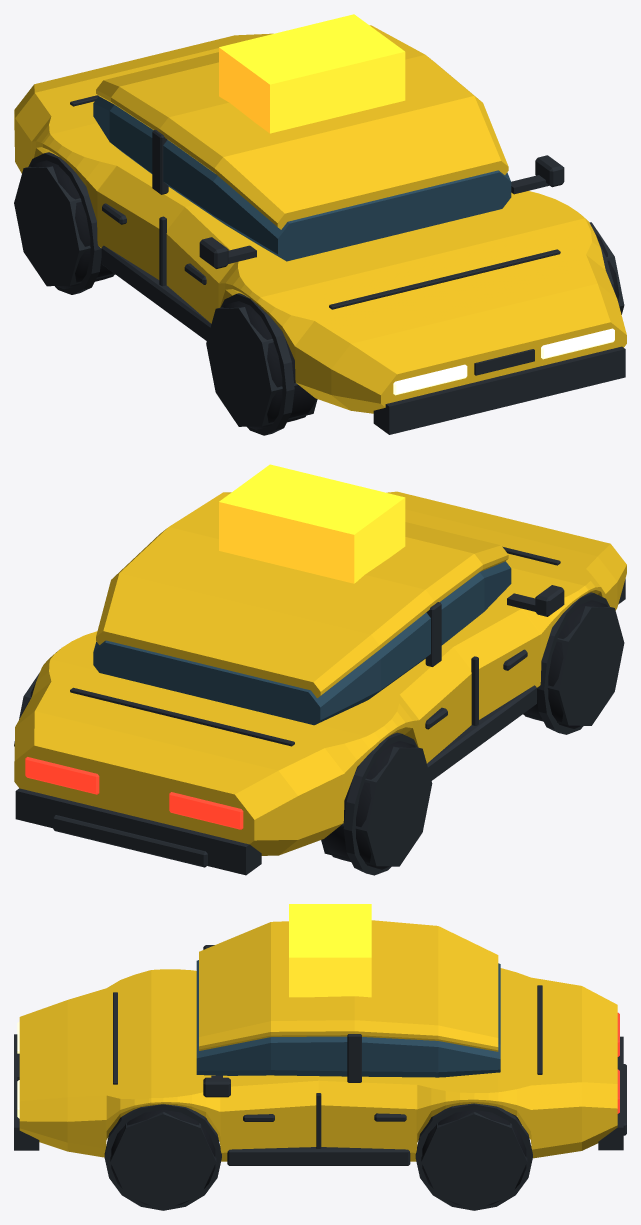
The model's file is sedan.glb.
3 renders of one model, top to bottom at view 1: azimuth 30°, elevation 25°; view 2: azimuth 150°, elevation 25°; view 3: azimuth 270°, elevation 25°, orthographic. The views are drawn at different scales.
Visible parts, largest first — view 1: sedan_body, sedan_fleet_trim, sedan_trim, sedan_glass, sedan_topper, sedan_headlights, sedan_front_left_tyre, sedan_rear_left_tyre; view 2: sedan_body, sedan_fleet_trim, sedan_topper, sedan_glass, sedan_trim, sedan_taillights, sedan_rear_left_tyre, sedan_front_left_tyre; view 3: sedan_body, sedan_fleet_trim, sedan_trim, sedan_glass, sedan_topper, sedan_rear_right_tyre, sedan_front_right_tyre.
Part boxes in pixels (x1,y1,x2,y2): sedan_body: [14, 25, 626, 413]; sedan_fleet_trim: [14, 166, 625, 434]; sedan_trim: [28, 95, 622, 435]; sedan_glass: [93, 96, 511, 261]; sedan_topper: [219, 14, 405, 133]; sedan_headlights: [393, 328, 614, 395]; sedan_front_left_tyre: [222, 301, 315, 429]; sedan_rear_left_tyre: [30, 160, 113, 289]; sedan_body: [14, 491, 626, 855]; sedan_fleet_trim: [14, 579, 625, 875]; sedan_topper: [219, 464, 405, 583]; sedan_glass: [93, 561, 511, 725]; sedan_trim: [22, 546, 623, 875]; sedan_taillights: [25, 757, 243, 829]; sedan_rear_left_tyre: [323, 741, 415, 869]; sedan_front_left_tyre: [524, 600, 607, 728]; sedan_body: [19, 920, 617, 1161]; sedan_fleet_trim: [14, 1034, 623, 1209]; sedan_trim: [17, 945, 626, 1210]; sedan_glass: [196, 960, 500, 1077]; sedan_topper: [289, 904, 371, 997]; sedan_rear_right_tyre: [422, 1109, 526, 1205]; sedan_front_right_tyre: [111, 1109, 215, 1205].
Bounding box in the file's own units: 2.87 × 2.06 × 5.33.
